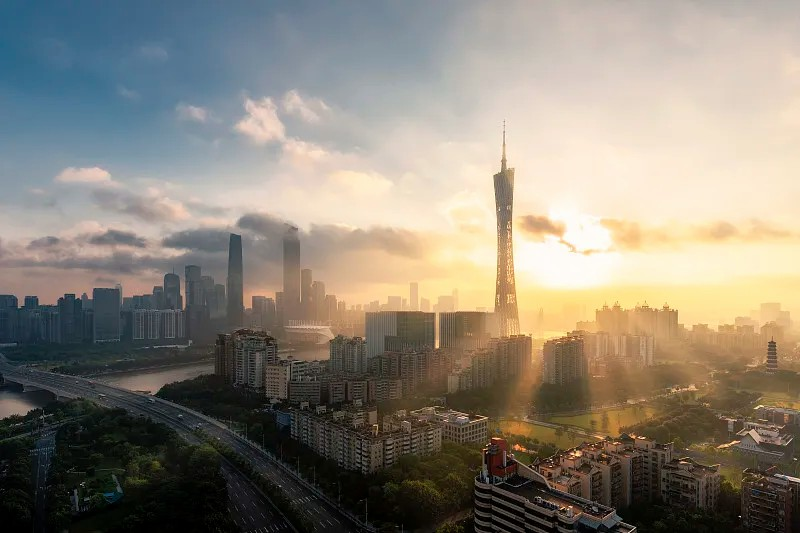Canton: (494, 115, 518, 316)
